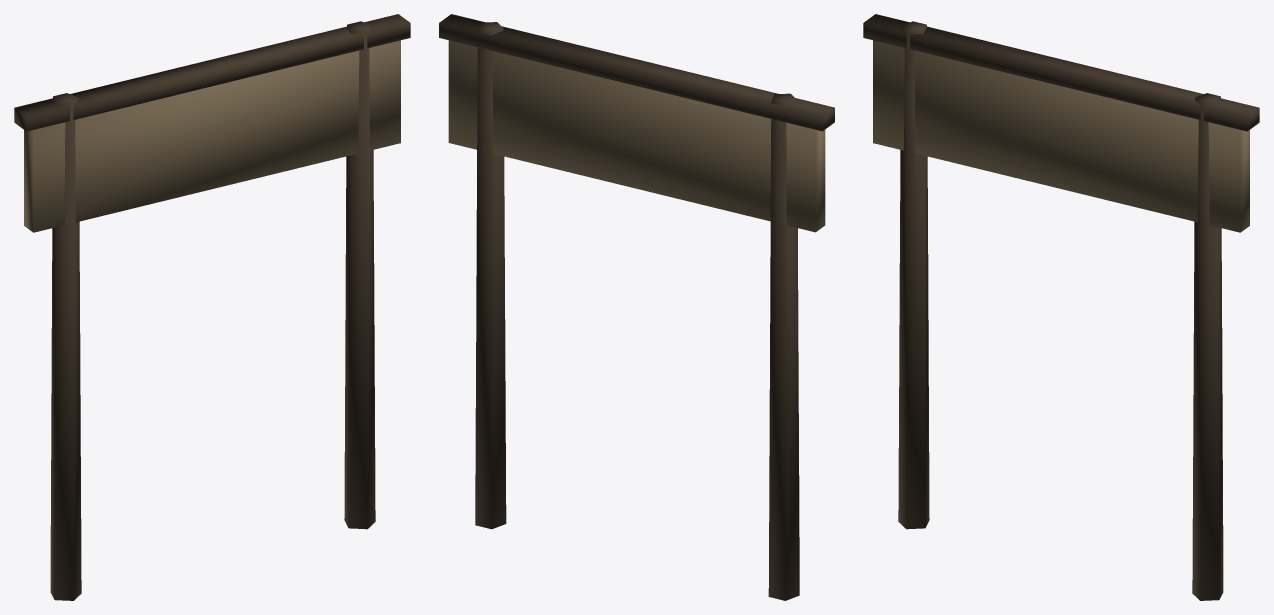
File: name-plaque.glb
The picture shows the model from 3 angles, left to right: view 1: azimuth 30°, elevation 25°; view 2: azimuth 150°, elevation 25°; view 3: azimuth 330°, elevation 25°; orthographic projection.
Visible parts, largest first — view 1: 소품.명패; view 2: 소품.명패; view 3: 소품.명패.
Boxes of the visible parts, x1,y1,x2,y2 form: 소품.명패: (14,14,410,600); 소품.명패: (439,14,834,600); 소품.명패: (863,14,1259,600).
Bounding box in the file's own units: 1.78 × 2.2 × 0.1194.
